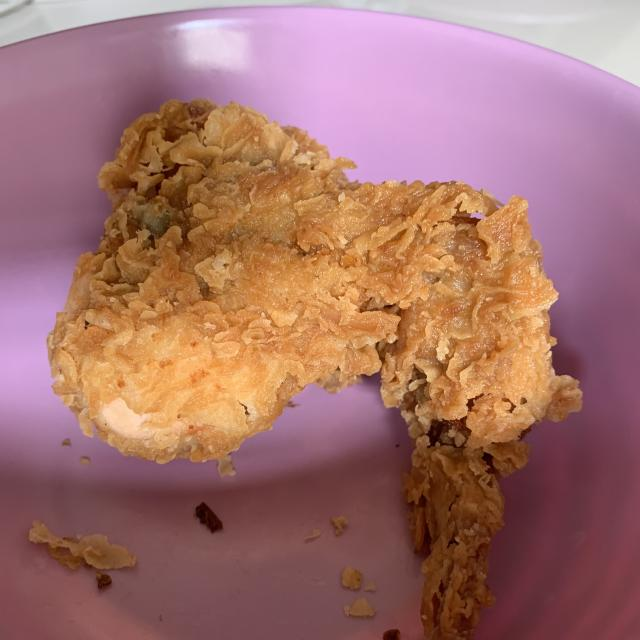Frango: (47, 100, 586, 640)
